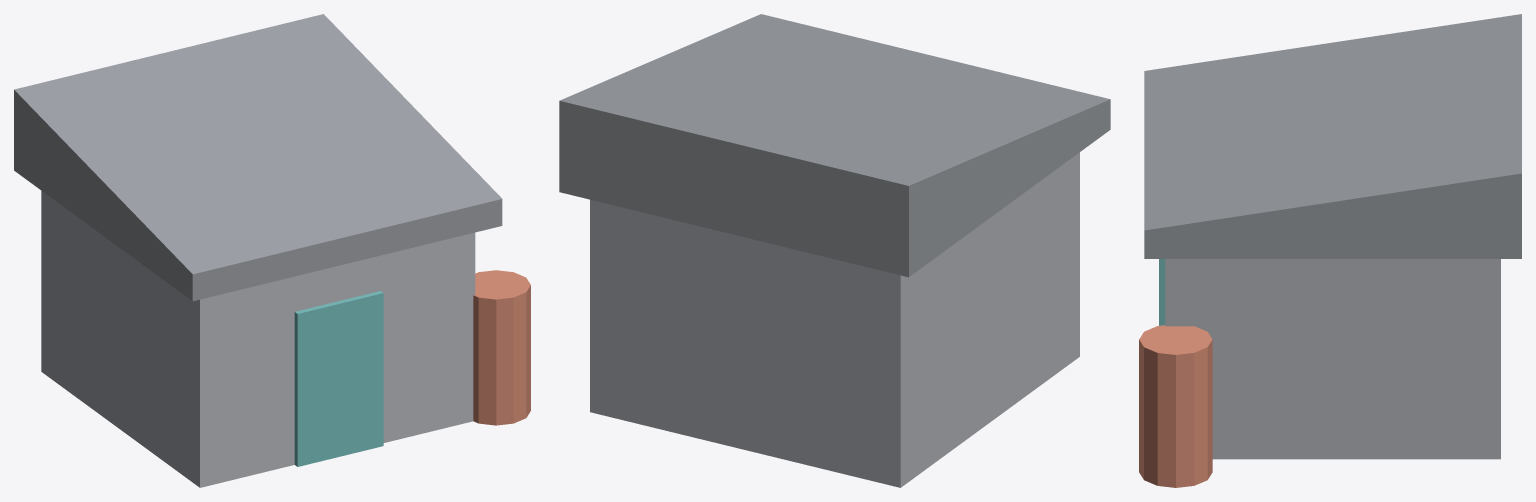
Rendered from equipment_room.glb.
3 renders of one model, left to right at view 1: azimuth 30°, elevation 25°; view 2: azimuth 150°, elevation 25°; view 3: azimuth 270°, elevation 25°, orthographic. The views are drawn at different scales.
Visible parts, largest first — view 1: Roof, Walls, Door, Tank; view 2: Walls, Roof; view 3: Roof, Walls, Tank, Door.
Boxes of the visible parts, x1,y1,x2,y2 form: Roof: (14, 14, 502, 301); Walls: (41, 191, 475, 487); Door: (294, 291, 383, 466); Tank: (473, 270, 530, 425); Walls: (590, 152, 1079, 487); Roof: (559, 14, 1110, 277); Roof: (1144, 14, 1521, 258); Walls: (1165, 259, 1500, 459); Tank: (1139, 325, 1212, 487); Door: (1159, 259, 1165, 325).
Size of the model in its own units: 4.05 by 3.1 by 3.65.
